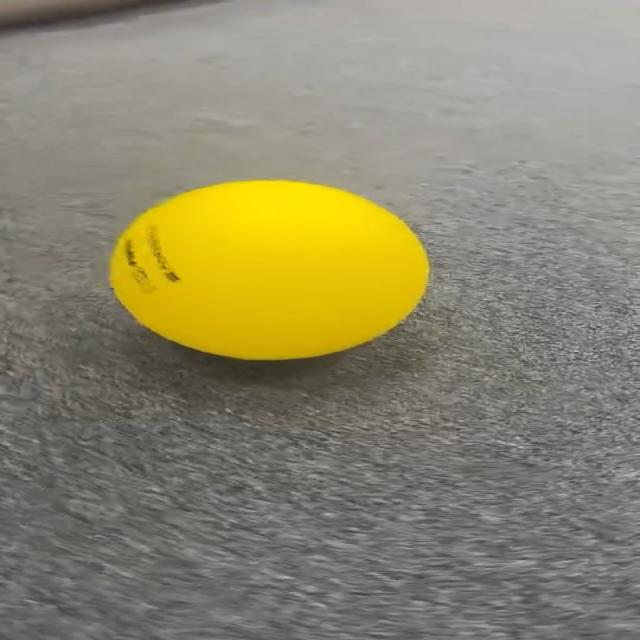Fuels: (112, 181, 426, 356)
